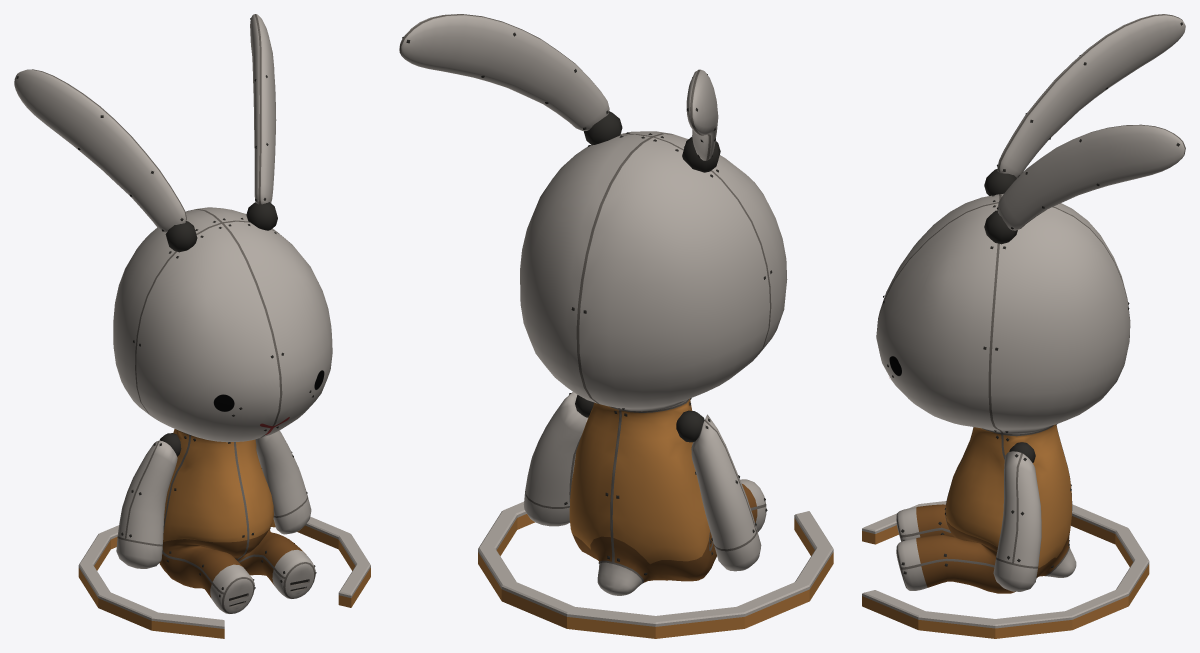
File: robot.glb
The picture shows the model from 3 angles, left to right: view 1: azimuth 30°, elevation 25°; view 2: azimuth 150°, elevation 25°; view 3: azimuth 270°, elevation 25°; orthographic projection. The views are drawn at different scales.
Visible parts, largest first — view 1: robot, robot_wall, robot_face; view 2: robot, robot_wall; view 3: robot, robot_wall.
Part boxes in pixels (bbox=[...]): robot: bbox=[14, 14, 332, 613]; robot_wall: bbox=[78, 516, 370, 638]; robot_face: bbox=[213, 370, 324, 434]; robot: bbox=[399, 14, 787, 595]; robot_wall: bbox=[478, 501, 833, 638]; robot: bbox=[876, 14, 1185, 593]; robot_wall: bbox=[862, 501, 1149, 638].
Size of the model in its own units: 26.67 by 48.27 by 28.04.
Materials: 2 (2 with a texture image).
